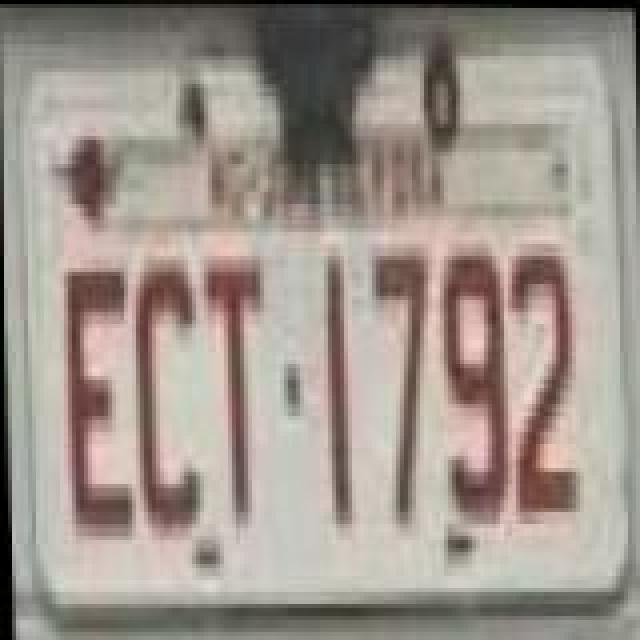1: (318, 240, 358, 536)
2: (504, 242, 580, 522)
7: (368, 246, 444, 526)
9: (436, 240, 512, 536)
C: (128, 248, 204, 544)
E: (60, 258, 136, 554)
T: (200, 248, 276, 528)
